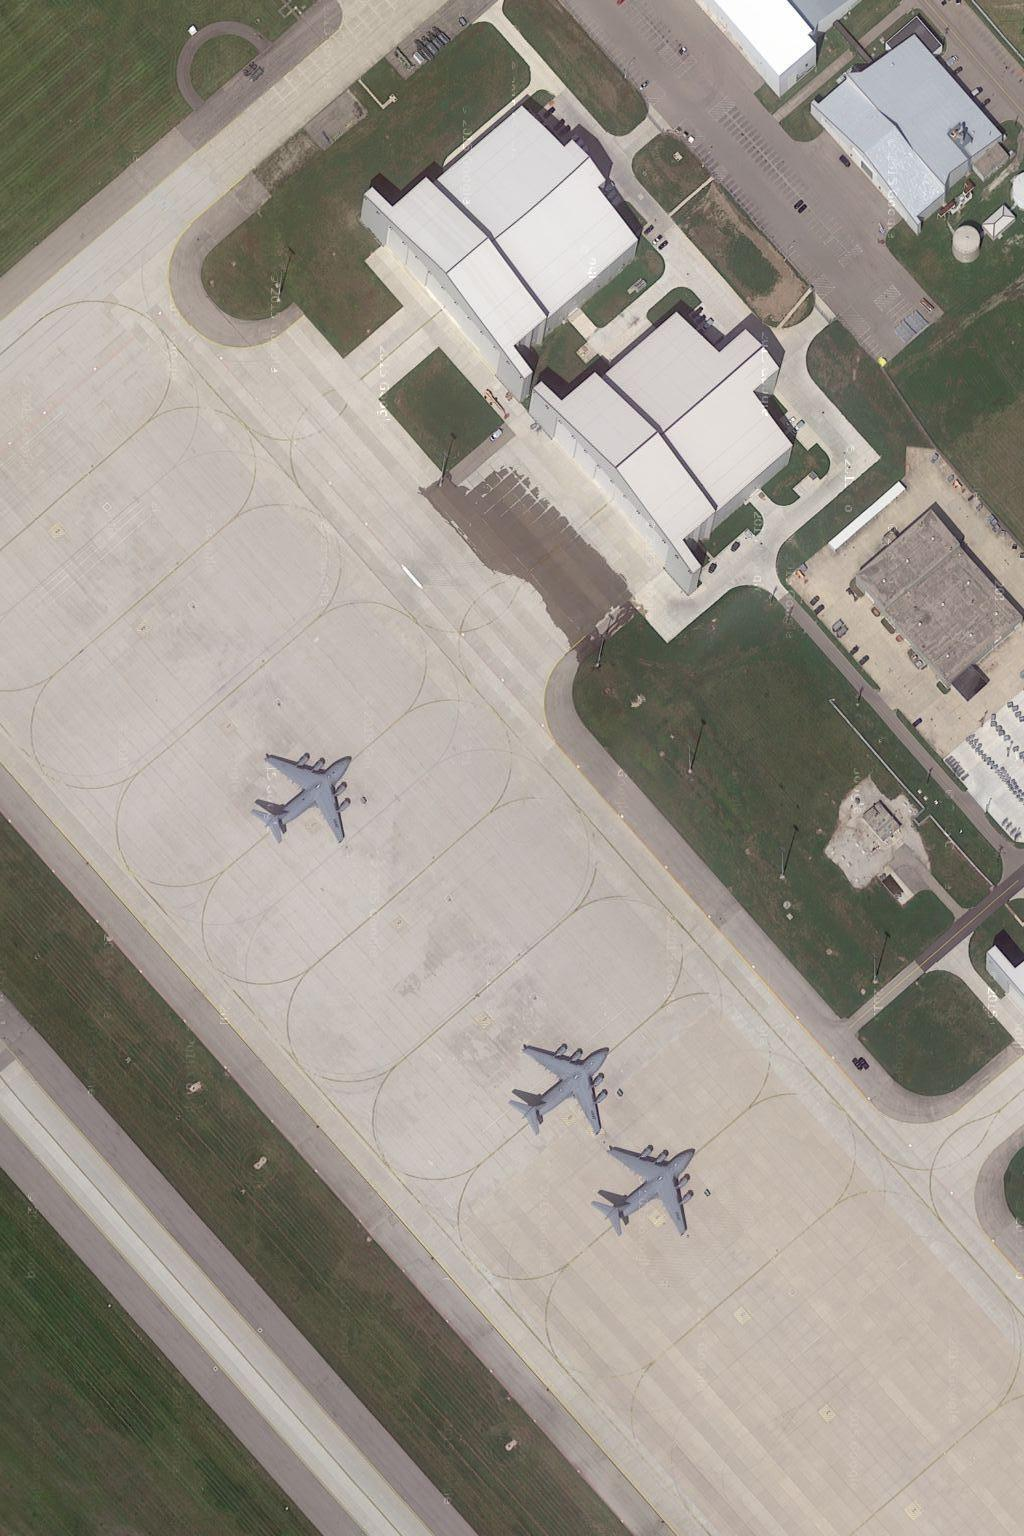C-17: (247, 745, 362, 853), (592, 1135, 707, 1240), (507, 1035, 613, 1143)
